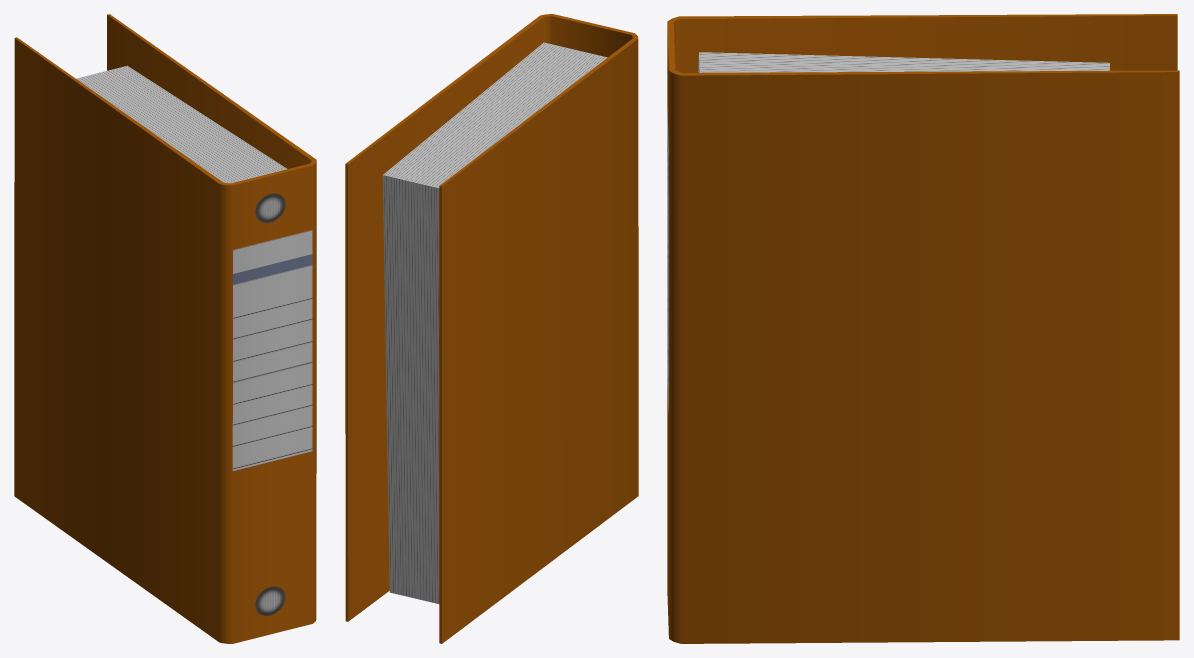
File: Office file binder_003.FBX
The picture shows the model from 3 angles, left to right: view 1: azimuth 30°, elevation 25°; view 2: azimuth 150°, elevation 25°; view 3: azimuth 270°, elevation 25°; orthographic projection. The views are drawn at different scales.
Visible parts, largest first — view 1: Office file binder_003; view 2: Office file binder_003; view 3: Office file binder_003.
Part boxes in pixels (<box>): Office file binder_003: <box>14,14,316,643</box>; Office file binder_003: <box>345,14,638,643</box>; Office file binder_003: <box>667,14,1179,643</box>.
Bounding box in the file's own units: 0.0746 × 0.3203 × 0.2617.
